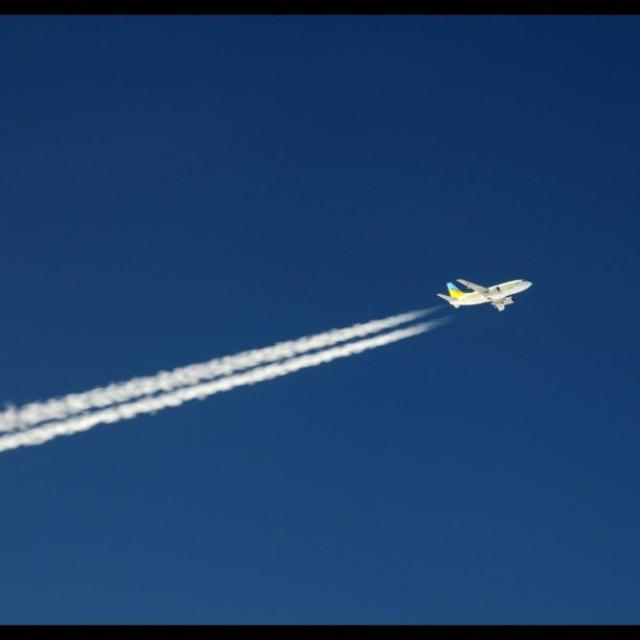airplane: (434, 274, 536, 315)
